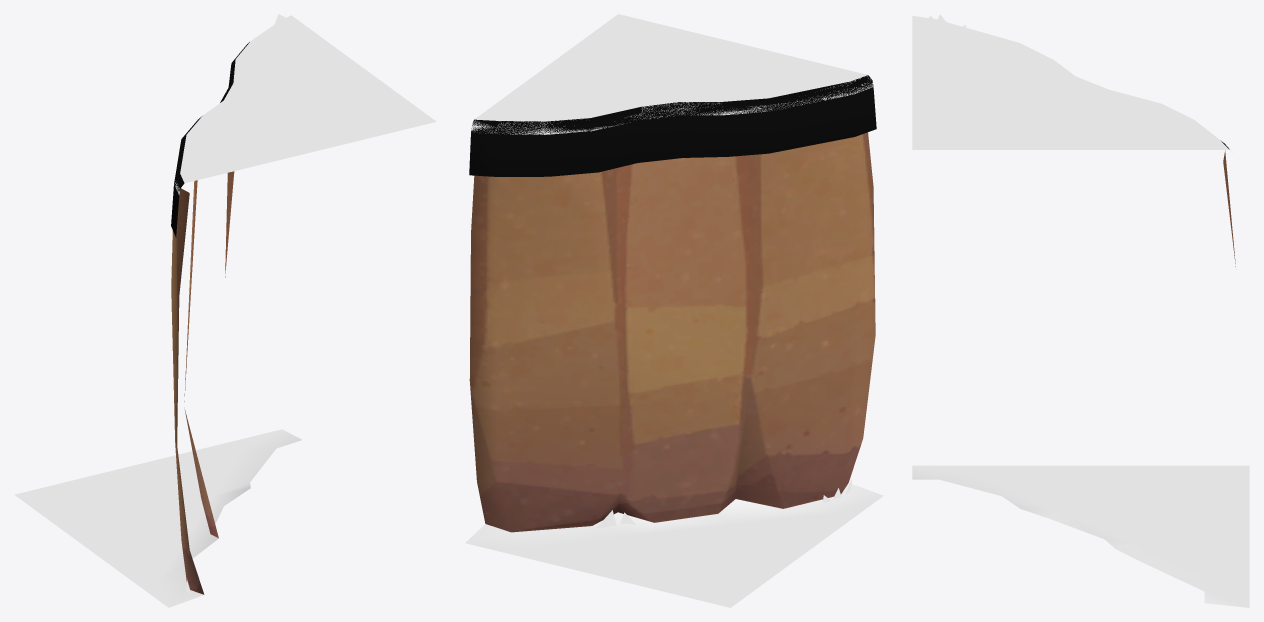
3 views of the same model, side by side, from view 1: azimuth 30°, elevation 25°; view 2: azimuth 150°, elevation 25°; view 3: azimuth 270°, elevation 25° (orthographic). The views are drawn at different scales.
Parts seen in each view (by area): view 1: GrassT__mGrass, GrassB__mGrass, Cliff__mCliff, GrassOP__mGrassCliffXlu; view 2: Cliff__mCliff, GrassOP__mGrassCliffXlu, GrassT__mGrass, GrassB__mGrass; view 3: GrassT__mGrass, GrassB__mGrass.
Boxes of the visible parts, box(x1,y1,x2,y2) form: GrassT__mGrass: box(174, 15, 436, 194); GrassB__mGrass: box(14, 429, 301, 607); Cliff__mCliff: box(171, 171, 234, 594); GrassOP__mGrassCliffXlu: box(171, 42, 249, 237); Cliff__mCliff: box(469, 132, 875, 532); GrassOP__mGrassCliffXlu: box(469, 75, 876, 176); GrassT__mGrass: box(471, 14, 873, 134); GrassB__mGrass: box(465, 483, 883, 607); GrassT__mGrass: box(912, 15, 1233, 153); GrassB__mGrass: box(912, 465, 1249, 607).
Bounding box in the file's own units: 10 × 15.43 × 10.
4 materials, 1 textured.
